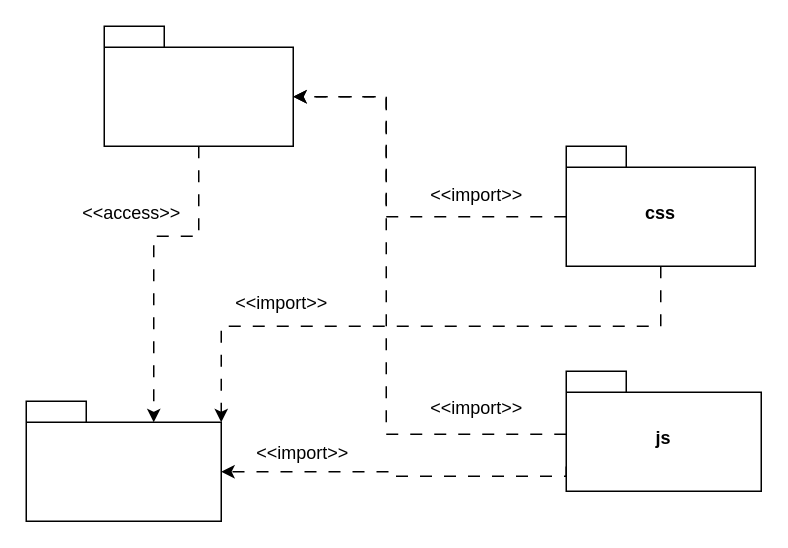
The diagram is 788 pixels wide and 548 high, and some of its shapes have lost their labels. The shapes that lost their labels are listed below. From the top down, each one's centre as x and y in pixels, then its label:
At [198,85]: "includes".
At [123,460]: "Views".
